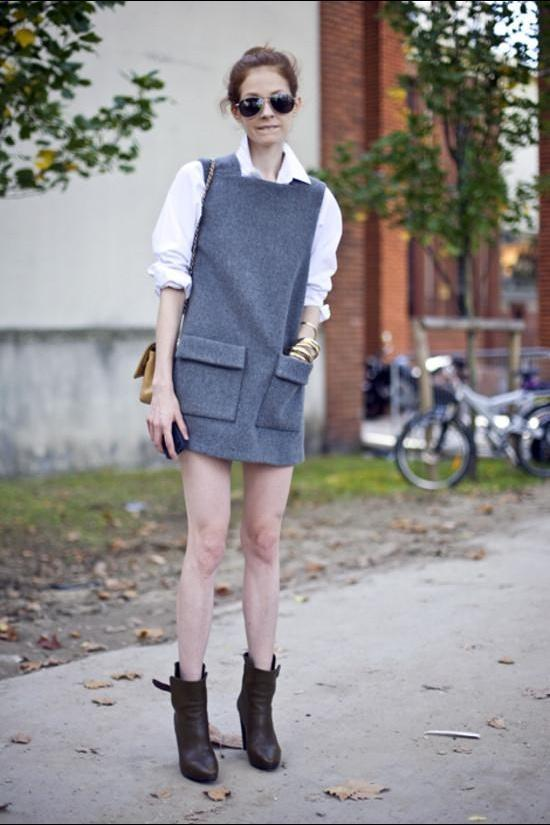dress: (149, 150, 344, 468)
